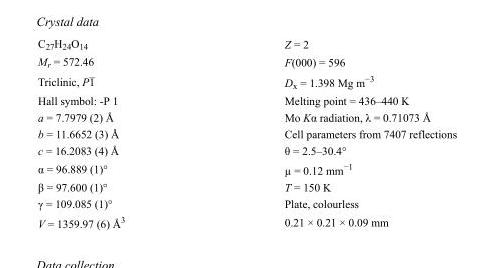table: (37, 36, 456, 229)
table column: (204, 36, 456, 229), (37, 36, 204, 229)
table row: (37, 70, 456, 91), (37, 158, 456, 178), (37, 52, 456, 70), (37, 211, 456, 229), (37, 91, 456, 108), (37, 108, 456, 125), (37, 141, 456, 158), (37, 194, 456, 211), (37, 36, 456, 52), (37, 125, 456, 141), (37, 178, 456, 194)
